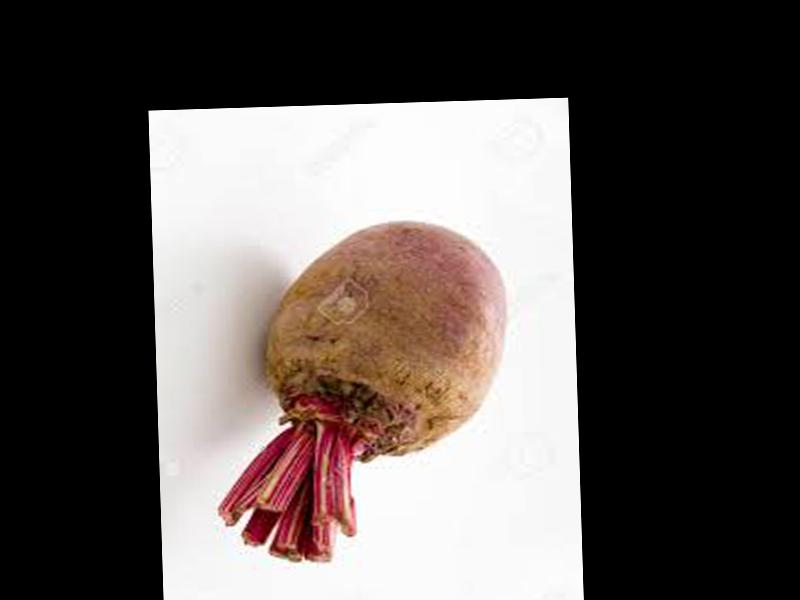Beet: (206, 216, 515, 564)
